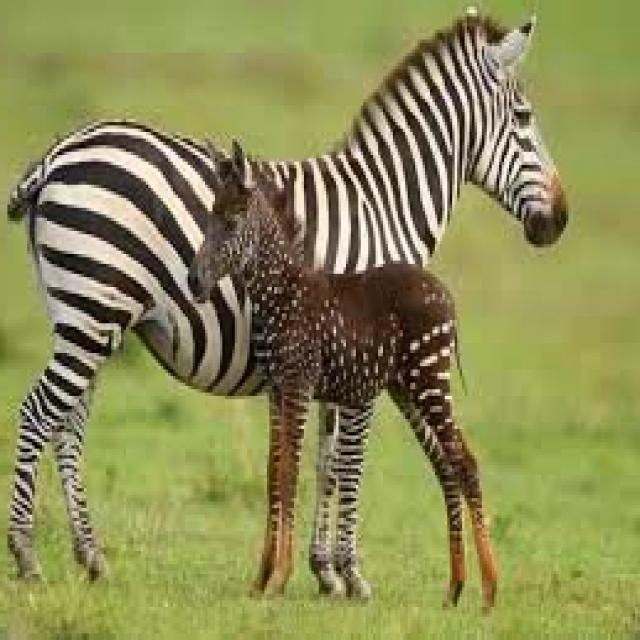zebra: (190, 142, 497, 604), (257, 20, 568, 271)
